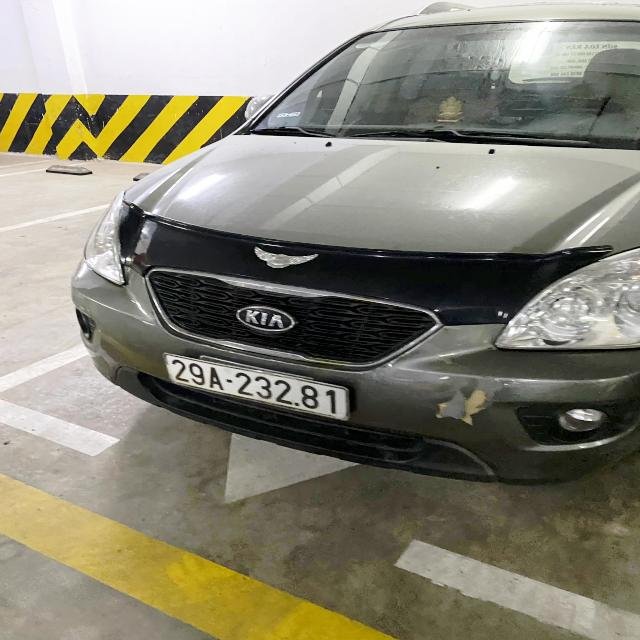license_plate: (160, 348, 356, 426)
